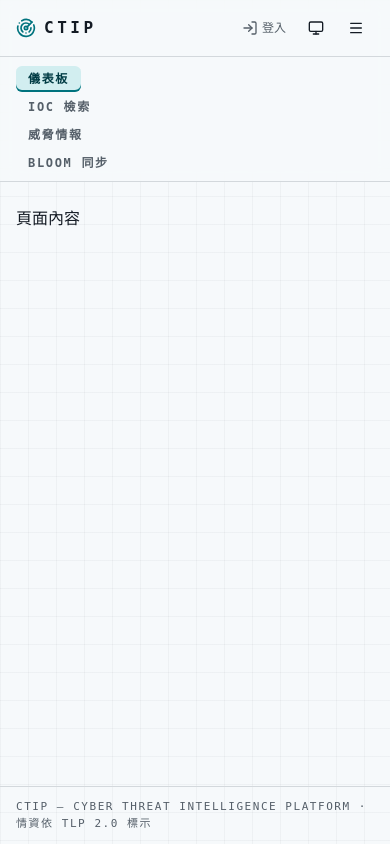
Test: AppLayout › toggles the mobile navigation menu
Check: the navigation bar named "行動版導覽" is shown, box [0,56,389,181]
Click the button named "開關選單" at (356,28), box [338,10,374,46]
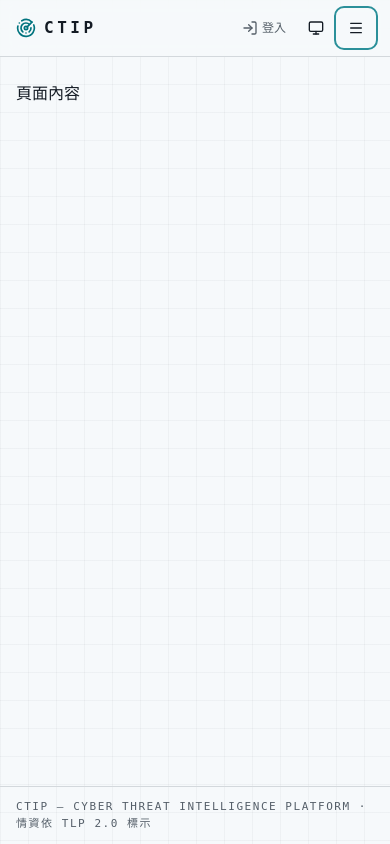
Check: the navigation bar "行動版導覽" is gone
